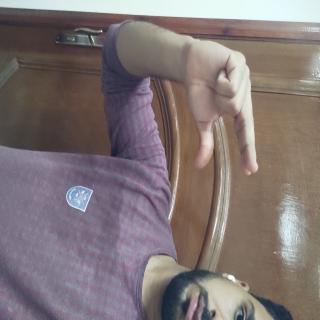DHELL: (22, 74, 145, 186)
